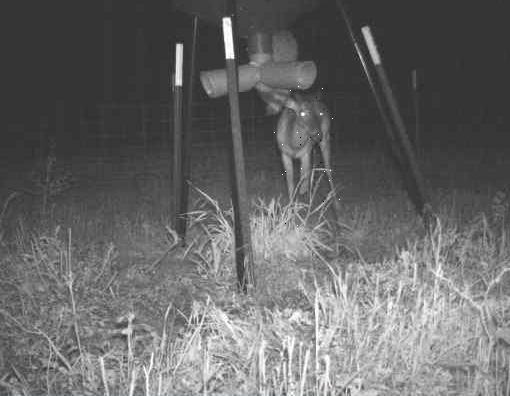Deer: (274, 86, 340, 226)
